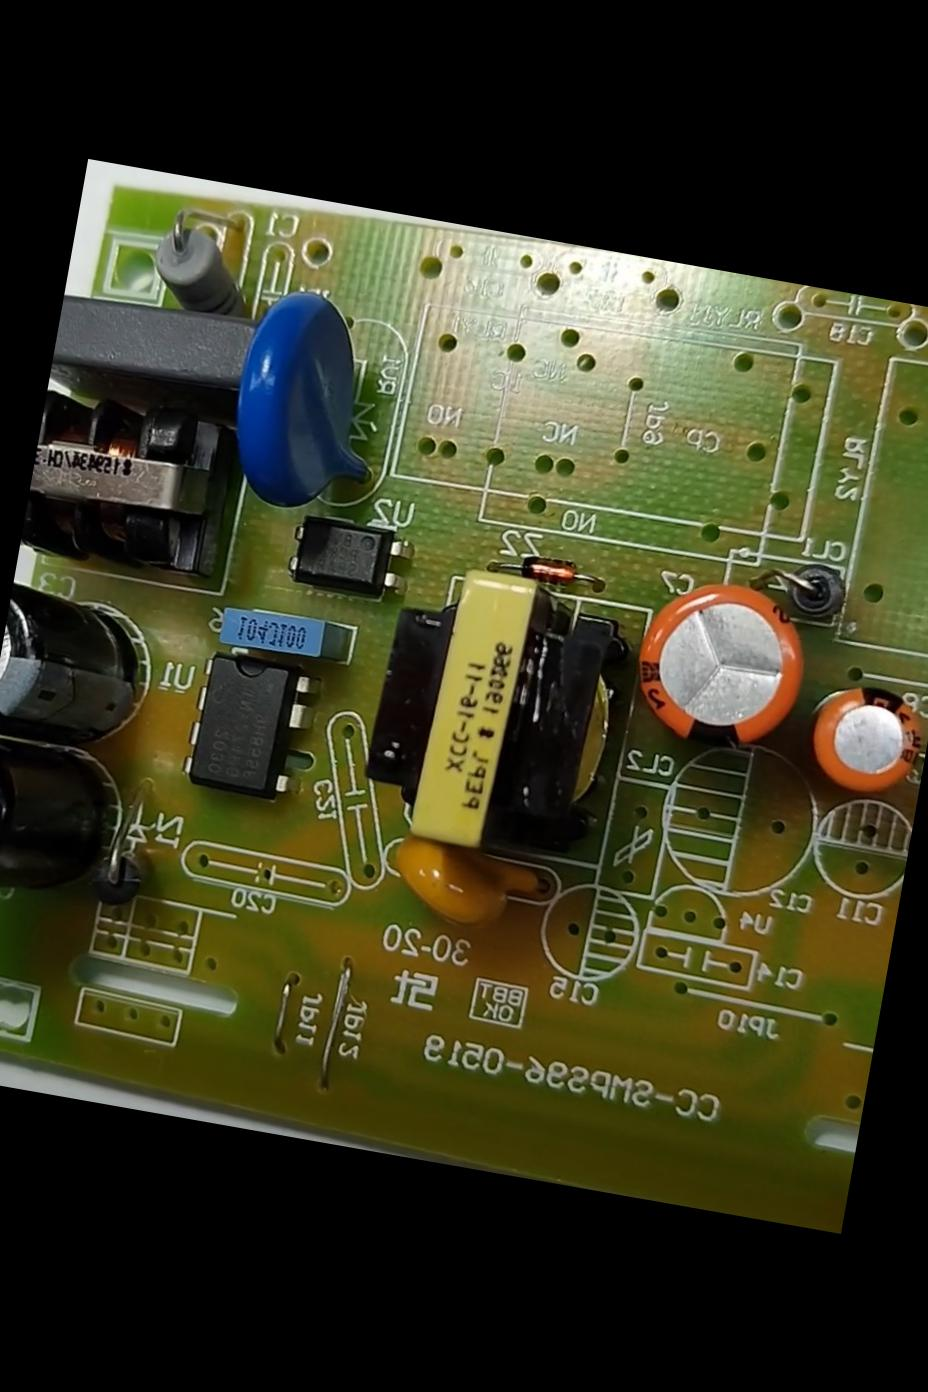Cap1: (606, 558, 827, 770)
Cap2: (786, 667, 927, 814)
Cap3: (0, 572, 161, 766)
Cap4: (0, 725, 137, 925)
MOSFET: (170, 632, 323, 816)
Mov: (209, 269, 404, 539)
Resistor: (128, 206, 257, 335)
Transformer: (341, 542, 655, 881), (17, 372, 253, 594)
